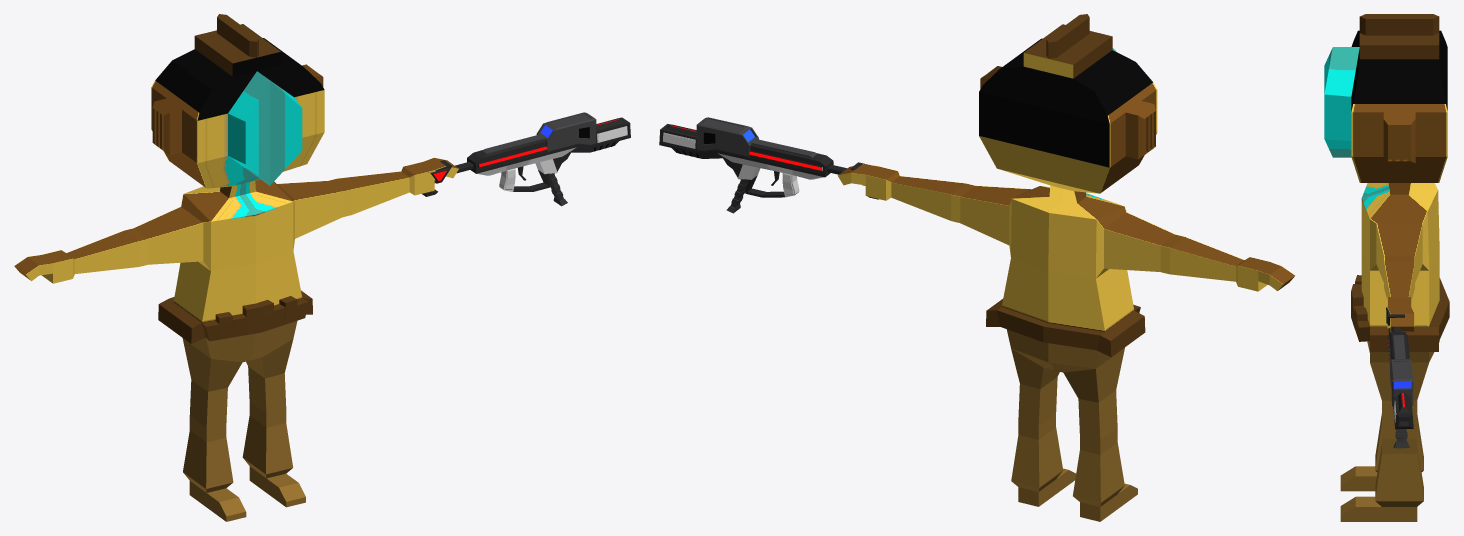
The model's file is Buso2.0.fbx.
The picture shows the model from 3 angles, left to right: view 1: azimuth 30°, elevation 25°; view 2: azimuth 150°, elevation 25°; view 3: azimuth 270°, elevation 25°; orthographic projection. The views are drawn at different scales.
Visible parts, largest first — view 1: Cubo, Gun; view 2: Cubo, Gun; view 3: Cubo, Gun, Mag.
Boxes of the visible parts, x1,y1,x2,y2 form: Cubo: (14, 14, 458, 521); Gun: (422, 112, 630, 196); Cubo: (837, 14, 1295, 521); Gun: (659, 117, 878, 199); Cubo: (1324, 14, 1449, 521); Gun: (1386, 307, 1413, 429); Mag: (1393, 429, 1409, 448).
Bounding box in the file's own units: 276 × 201 × 47.02.
10 materials, 1 textured.
